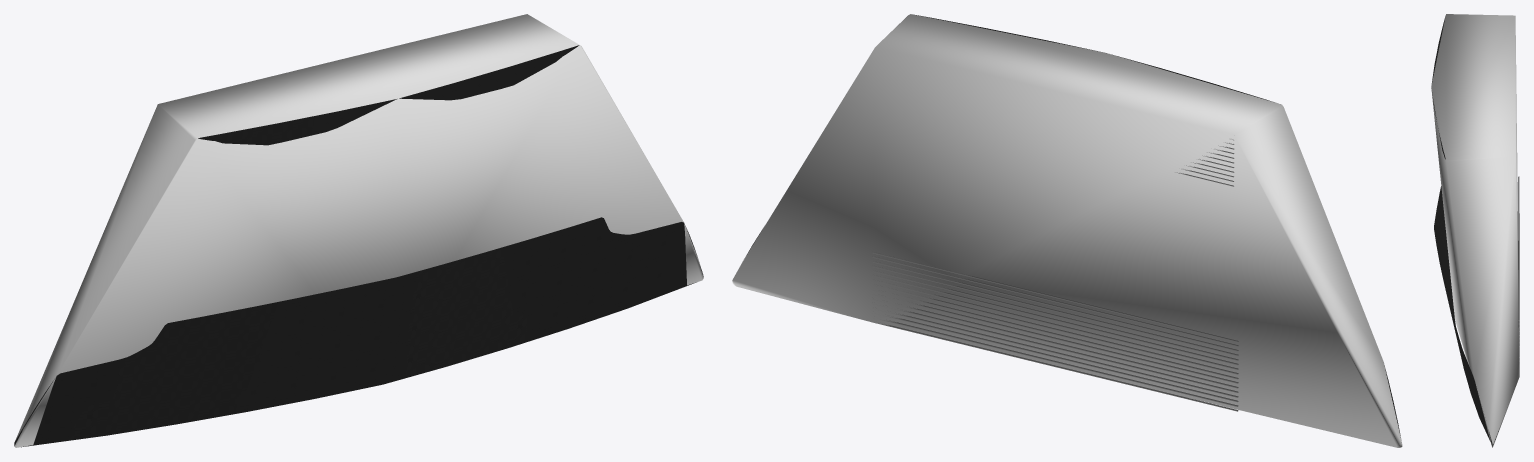
3 renders of one model, left to right at view 1: azimuth 30°, elevation 25°; view 2: azimuth 150°, elevation 25°; view 3: azimuth 270°, elevation 25°, orthographic. The views are drawn at different scales.
Visible parts, largest first — view 1: grille_stampede_head_1_01_col, grille_stampede_head_1_01; view 2: grille_stampede_head_1_01_col, grille_stampede_head_1_01; view 3: grille_stampede_head_1_01_col, grille_stampede_head_1_01.
Boxes of the visible parts, left/top/right/bottom form: grille_stampede_head_1_01_col: left=14, top=14, right=703, bottom=447; grille_stampede_head_1_01: left=14, top=45, right=703, bottom=447; grille_stampede_head_1_01_col: left=732, top=14, right=1402, bottom=447; grille_stampede_head_1_01: left=744, top=15, right=1400, bottom=437; grille_stampede_head_1_01_col: left=1431, top=14, right=1519, bottom=447; grille_stampede_head_1_01: left=1431, top=16, right=1519, bottom=446.
Size of the model in its own units: 1.11 by 0.4578 by 0.1577.
Materials: 2 (2 with a texture image).
